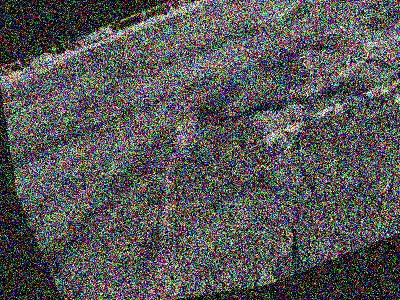pothole: (251, 227, 313, 285), (172, 103, 214, 134)
